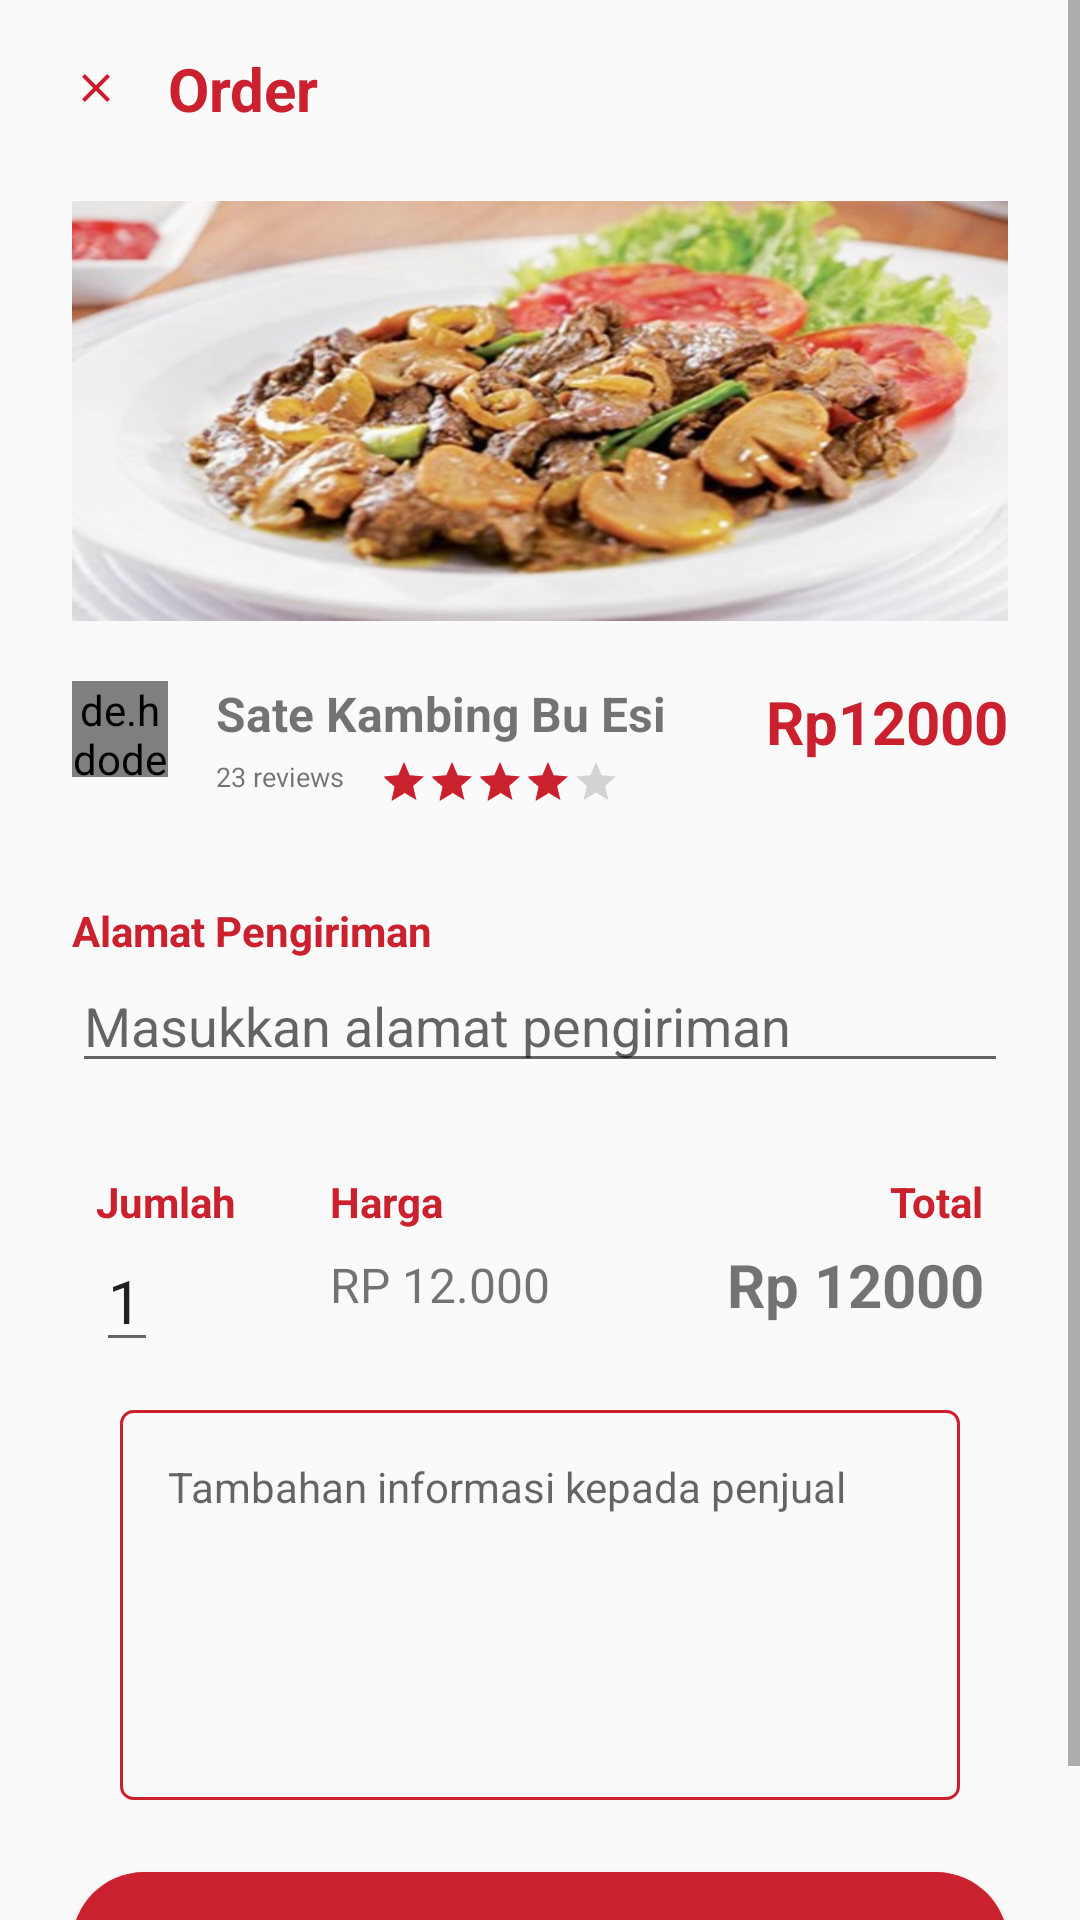

Named icons in this screenshot (1080px×1920px) and their centers, point (x, y):
close: point (96, 88)
